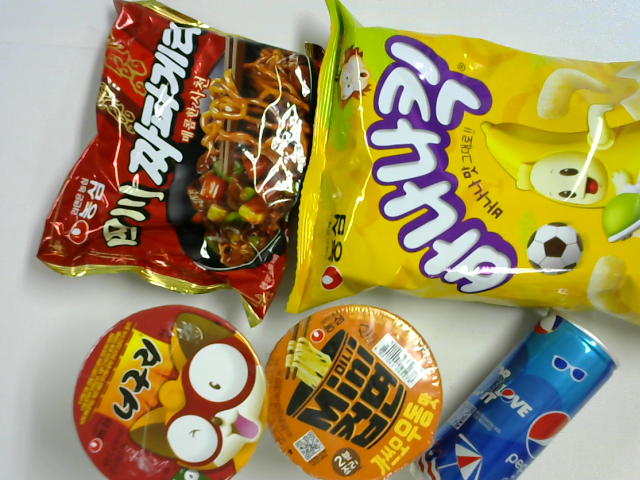Banana_Kick: (284, 1, 640, 332)
Pepsi_Cola_Can_250ml: (407, 312, 619, 480)
Raccoon: (72, 305, 269, 480)
Sichuan_Chapaghetti: (37, 1, 326, 328)
Udongmini: (263, 305, 442, 480)
